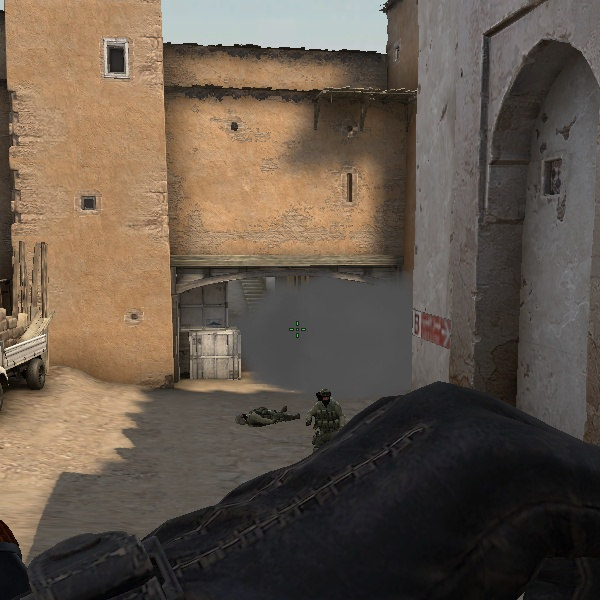ct_body: (306, 388, 344, 439)
ct_head: (319, 388, 332, 406)
